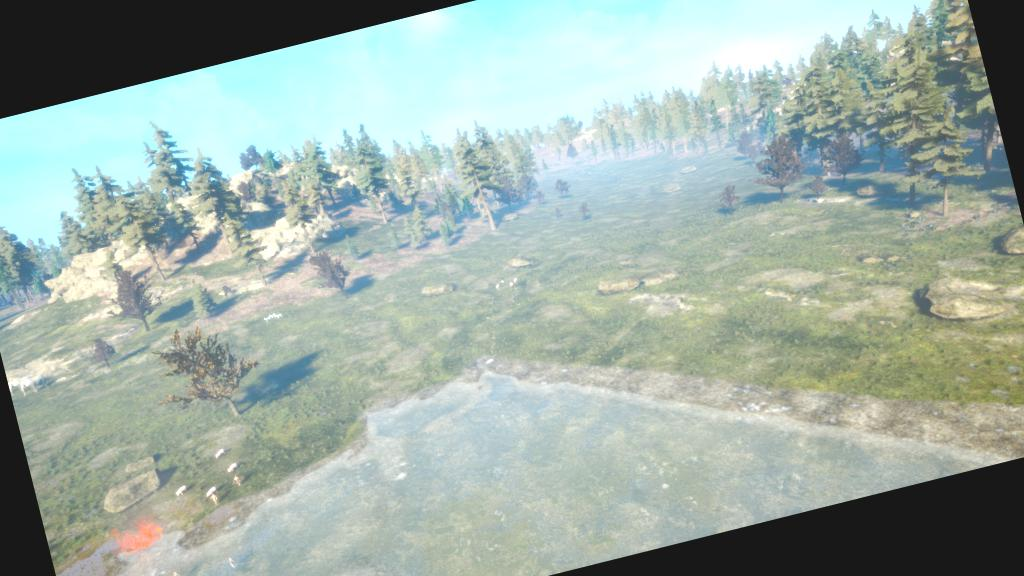Fire: (97, 507, 178, 565)
elephant: (18, 372, 54, 396), (7, 372, 38, 396)
human: (225, 554, 241, 572), (209, 491, 221, 507), (170, 567, 188, 575)
pig: (201, 484, 220, 500), (222, 460, 242, 475), (211, 445, 228, 462), (172, 484, 190, 499), (231, 473, 244, 490)
zebra: (262, 314, 278, 323), (276, 312, 284, 320)
